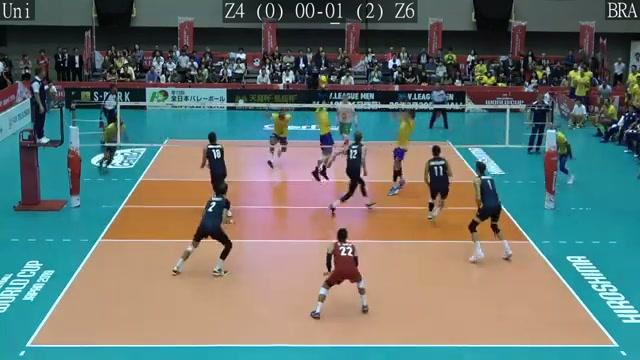ball: (318, 72, 327, 89)
